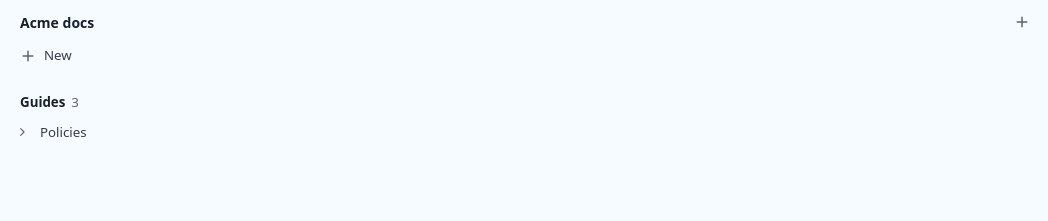
Test case: WorkspaceTree when a slice cannot be had › says the documents could not be loaded, and loads them when asked to try again
Click the button named "Expand Policies" at (22, 132), box top-left (12, 122), bottom-right (32, 142)
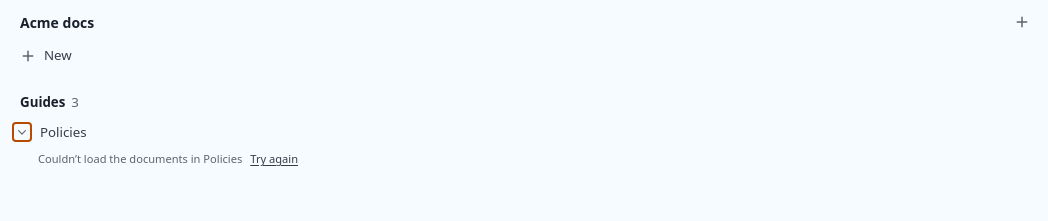
Check: the text "Couldn’t load the documents in Policies" is shown, box top-left (38, 151), bottom-right (242, 167)
Click the button named "Try again, in Policies" at (274, 159), box top-left (250, 151), bottom-right (298, 167)
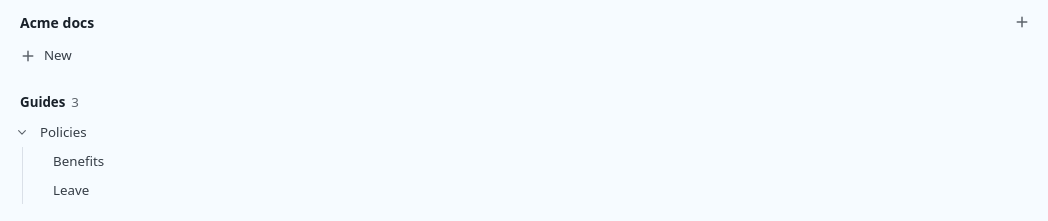
Check: the link "Leave" is shown, box top-left (53, 181), bottom-right (89, 199)
